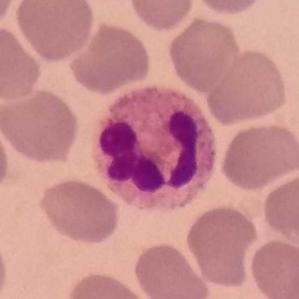Neutrophil: (93, 73, 224, 210)
RBC: (204, 47, 291, 127), (183, 203, 260, 289), (67, 20, 154, 94), (0, 86, 82, 164), (165, 14, 241, 92), (38, 176, 122, 246), (218, 119, 298, 192), (13, 0, 97, 63), (131, 240, 212, 299), (0, 23, 44, 102), (247, 236, 299, 298), (260, 170, 299, 247), (64, 269, 153, 299), (127, 0, 197, 32), (190, 0, 267, 17), (0, 115, 11, 197), (0, 234, 10, 299), (0, 0, 19, 29)
